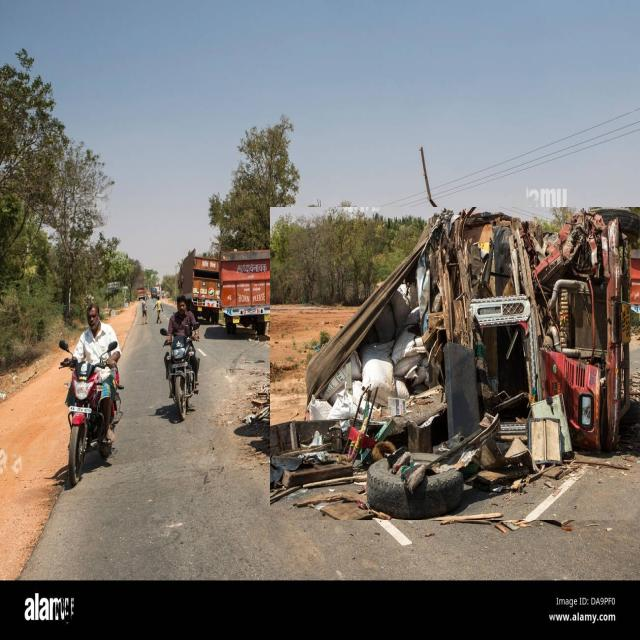accident: (270, 208, 640, 520)
motorcycle: (61, 304, 122, 486), (165, 296, 199, 420)
truck: (219, 248, 280, 335), (179, 250, 220, 324)
